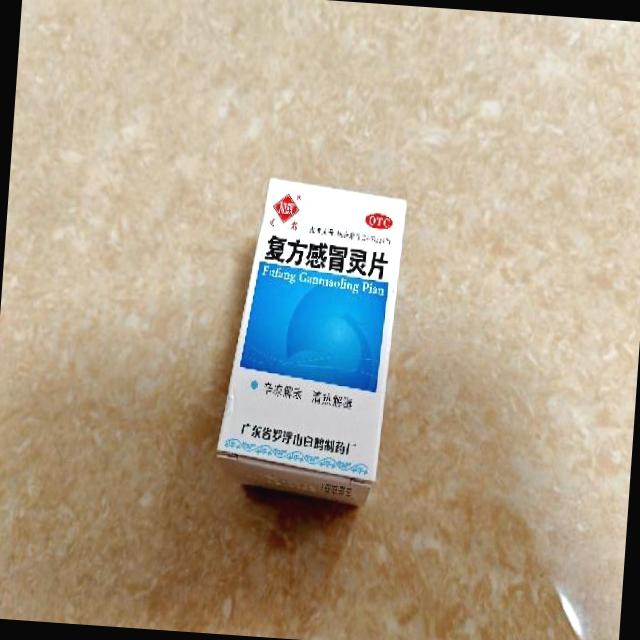box: (214, 176, 408, 506)
